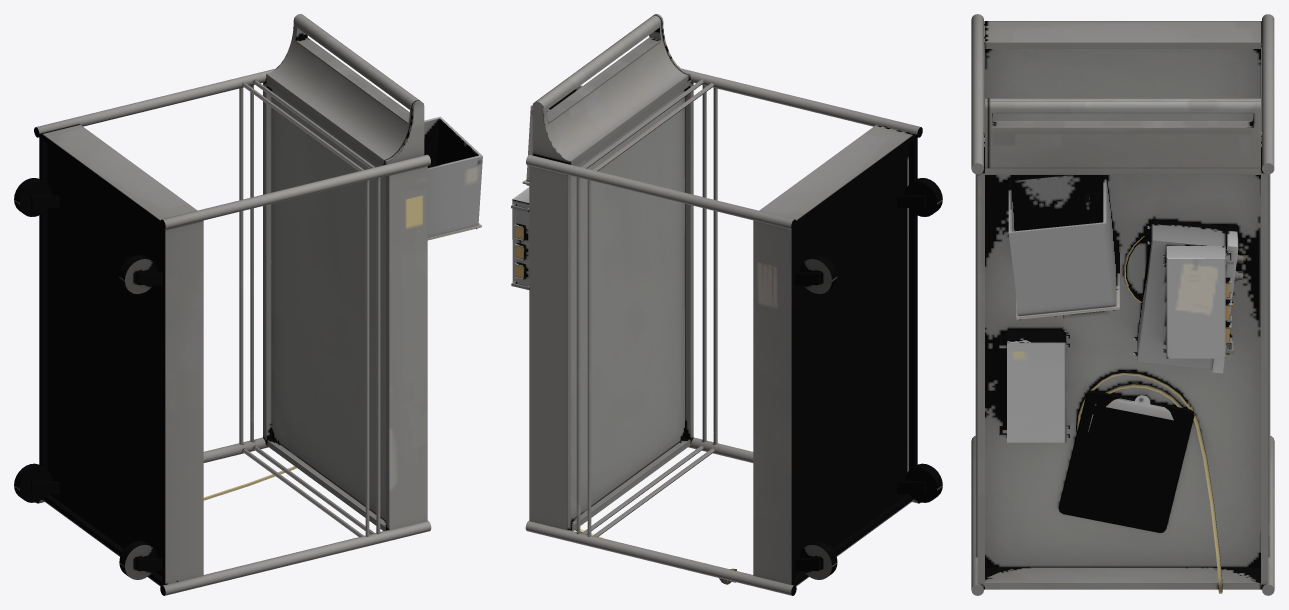
The model's file is props_well_computer_cart01.glb.
The picture shows the model from 3 angles, left to right: view 1: azimuth 30°, elevation 25°; view 2: azimuth 150°, elevation 25°; view 3: azimuth 270°, elevation 25°; orthographic projection. The views are drawn at different scales.
Parts seen in each view (by area): view 1: models/props_well/computer_cart01; view 2: models/props_well/computer_cart01; view 3: models/props_well/computer_cart01.
Boxes of the visible parts, box(x1,y1,x2,y2) form: models/props_well/computer_cart01: box(14, 14, 482, 595); models/props_well/computer_cart01: box(511, 14, 942, 595); models/props_well/computer_cart01: box(971, 14, 1274, 595).
Bounding box in the file's own units: 67.01 × 78.9 × 41.75.
1 material, 1 textured.
